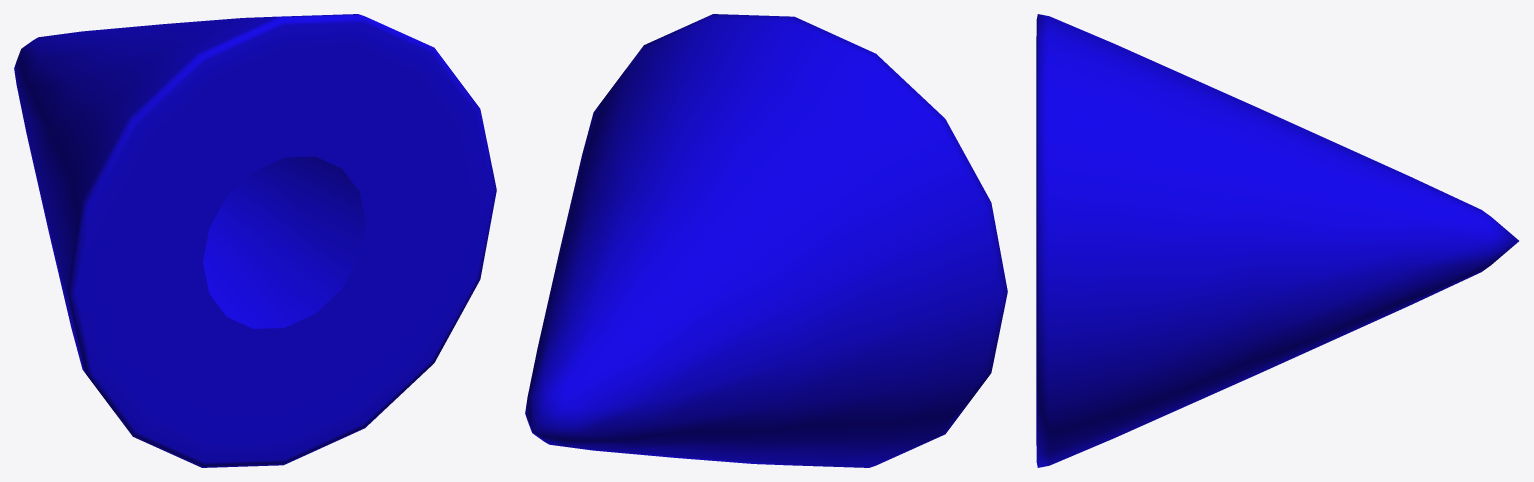
File: RightCone.fbx
3 views of the same model, side by side, from view 1: azimuth 30°, elevation 25°; view 2: azimuth 150°, elevation 25°; view 3: azimuth 270°, elevation 25° (orthographic). The views are drawn at different scales.
Parts seen in each view (by area): view 1: Cone_right; view 2: Cone_right; view 3: Cone_right.
Part boxes in pixels (x1=…): Cone_right: x1=14, y1=14, x2=496, y2=467; Cone_right: x1=525, y1=14, x2=1007, y2=467; Cone_right: x1=1036, y1=14, x2=1518, y2=467.
Size of the model in its own units: 0.0178 by 0.0178 by 0.0189.
